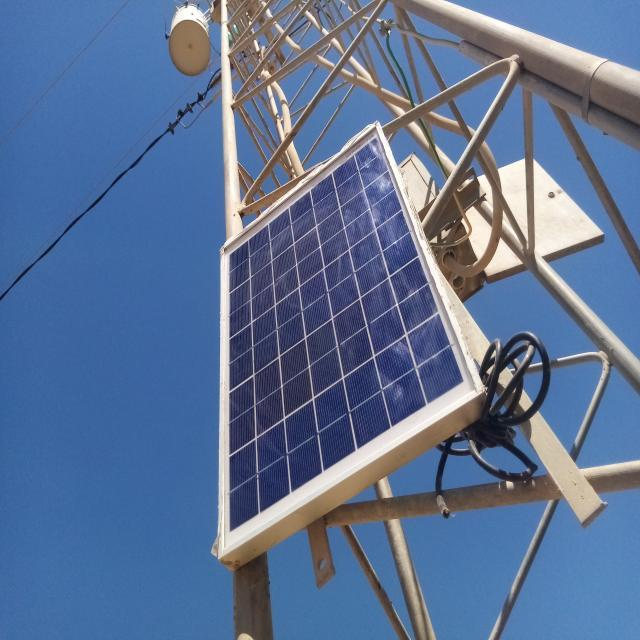no faulty: (220, 124, 482, 553)
